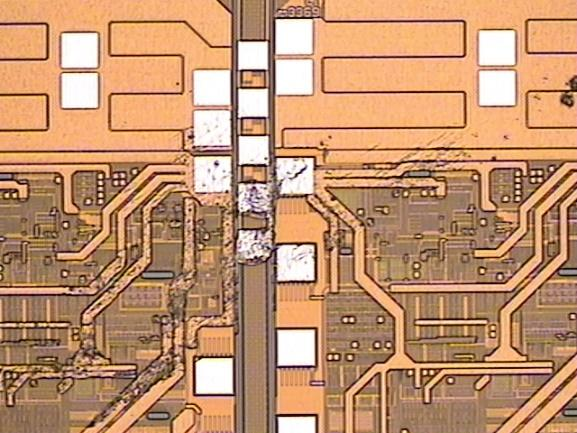SCRATCH: (1, 66, 577, 433)
